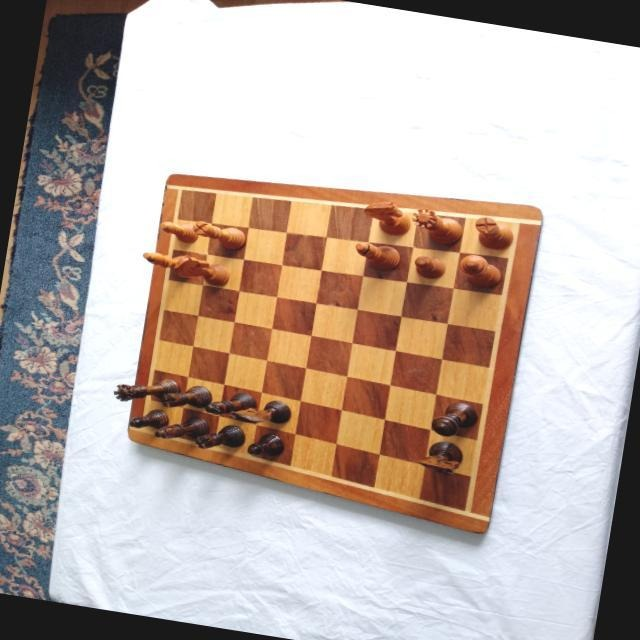black-bishop: (154, 409, 210, 443), (205, 386, 259, 420)
black-king: (429, 396, 479, 439)
black-knight: (228, 392, 293, 427), (414, 436, 465, 477)
black-pawn: (127, 404, 170, 432), (246, 429, 285, 458)
black-queen: (112, 369, 180, 409)
black-rook: (158, 378, 214, 413), (194, 418, 248, 453)
white-bishop: (352, 239, 402, 272), (140, 248, 194, 276)
white-king: (457, 251, 503, 288)
white-knight: (359, 195, 414, 236), (172, 252, 232, 287)
white-pawn: (157, 219, 200, 245), (412, 253, 446, 280)
white-queen: (408, 205, 464, 247)
white-rook: (190, 218, 248, 250), (471, 214, 516, 252)
